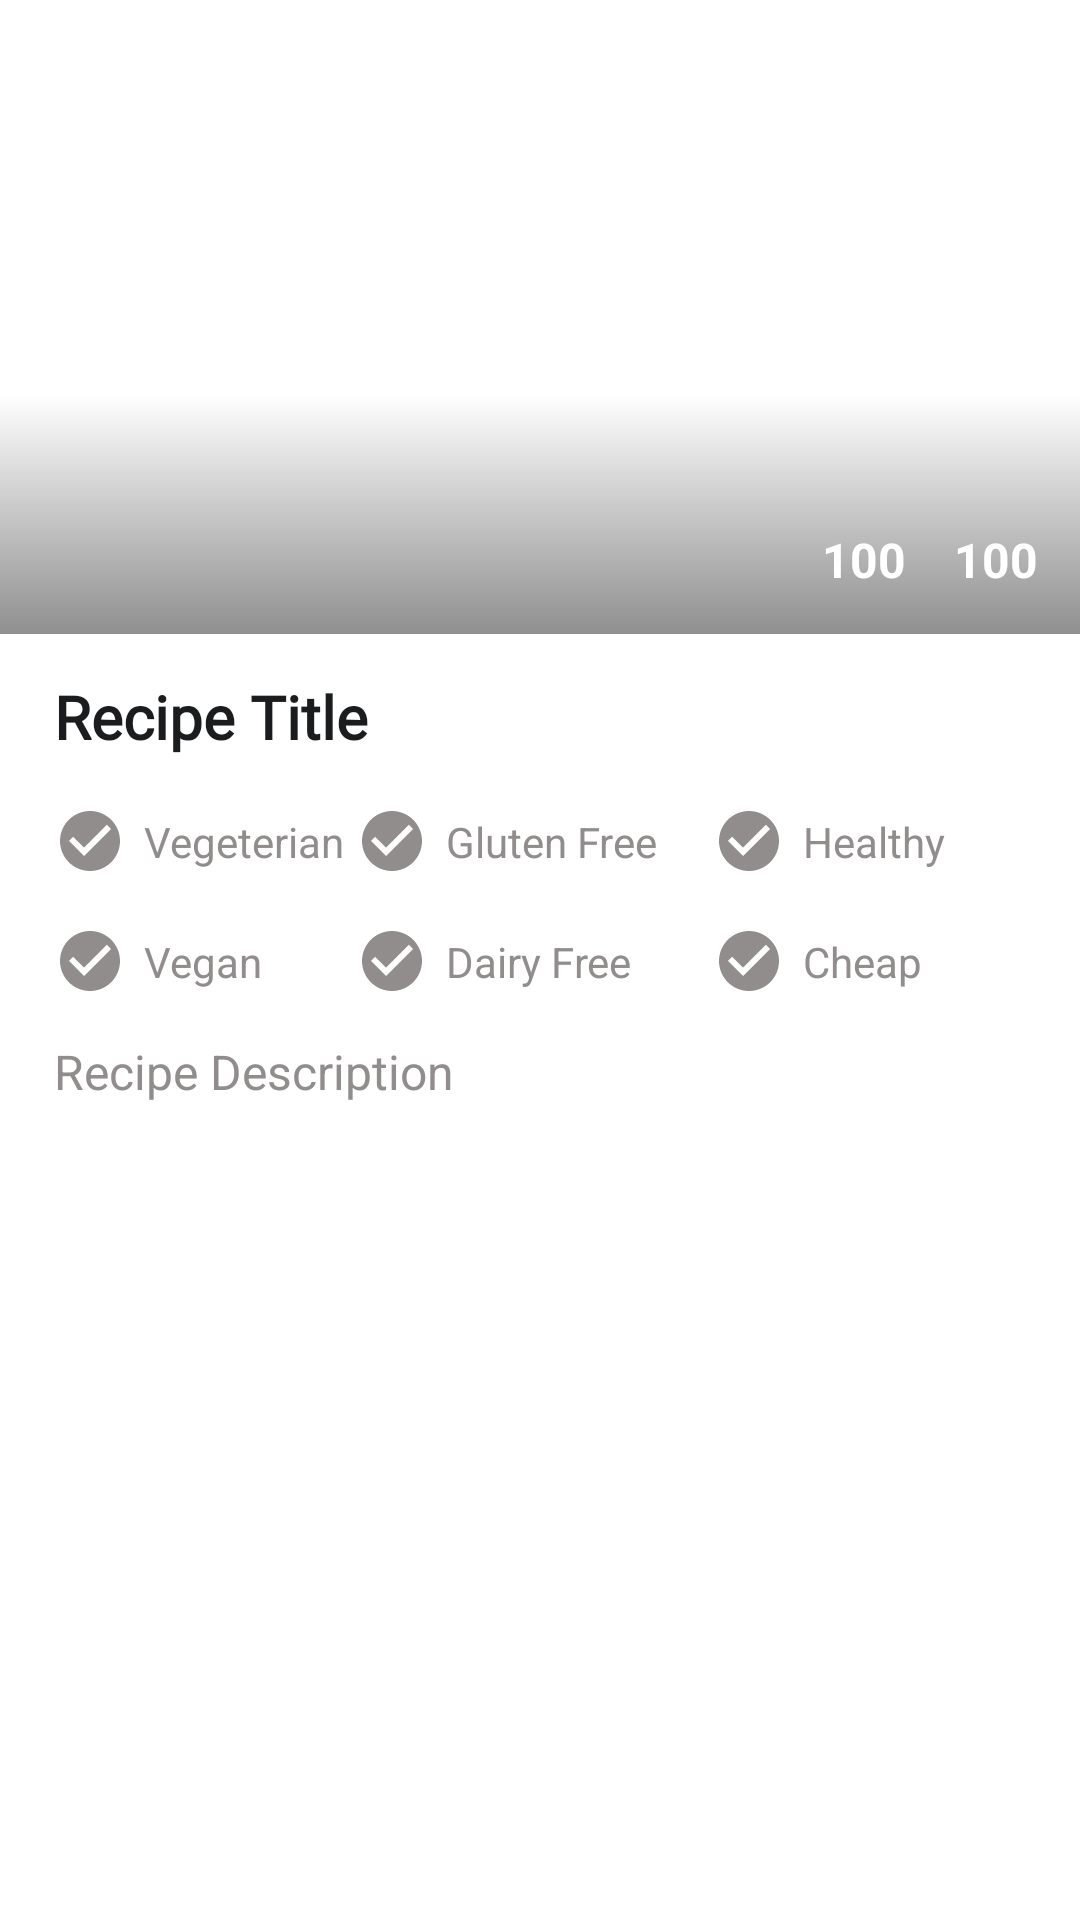

Icons on this 1080px x 1920px Android screen, each with the point to tap as [x,y]:
check: [90,841], [392,841], [749,841], [90,961], [392,961], [749,961]
